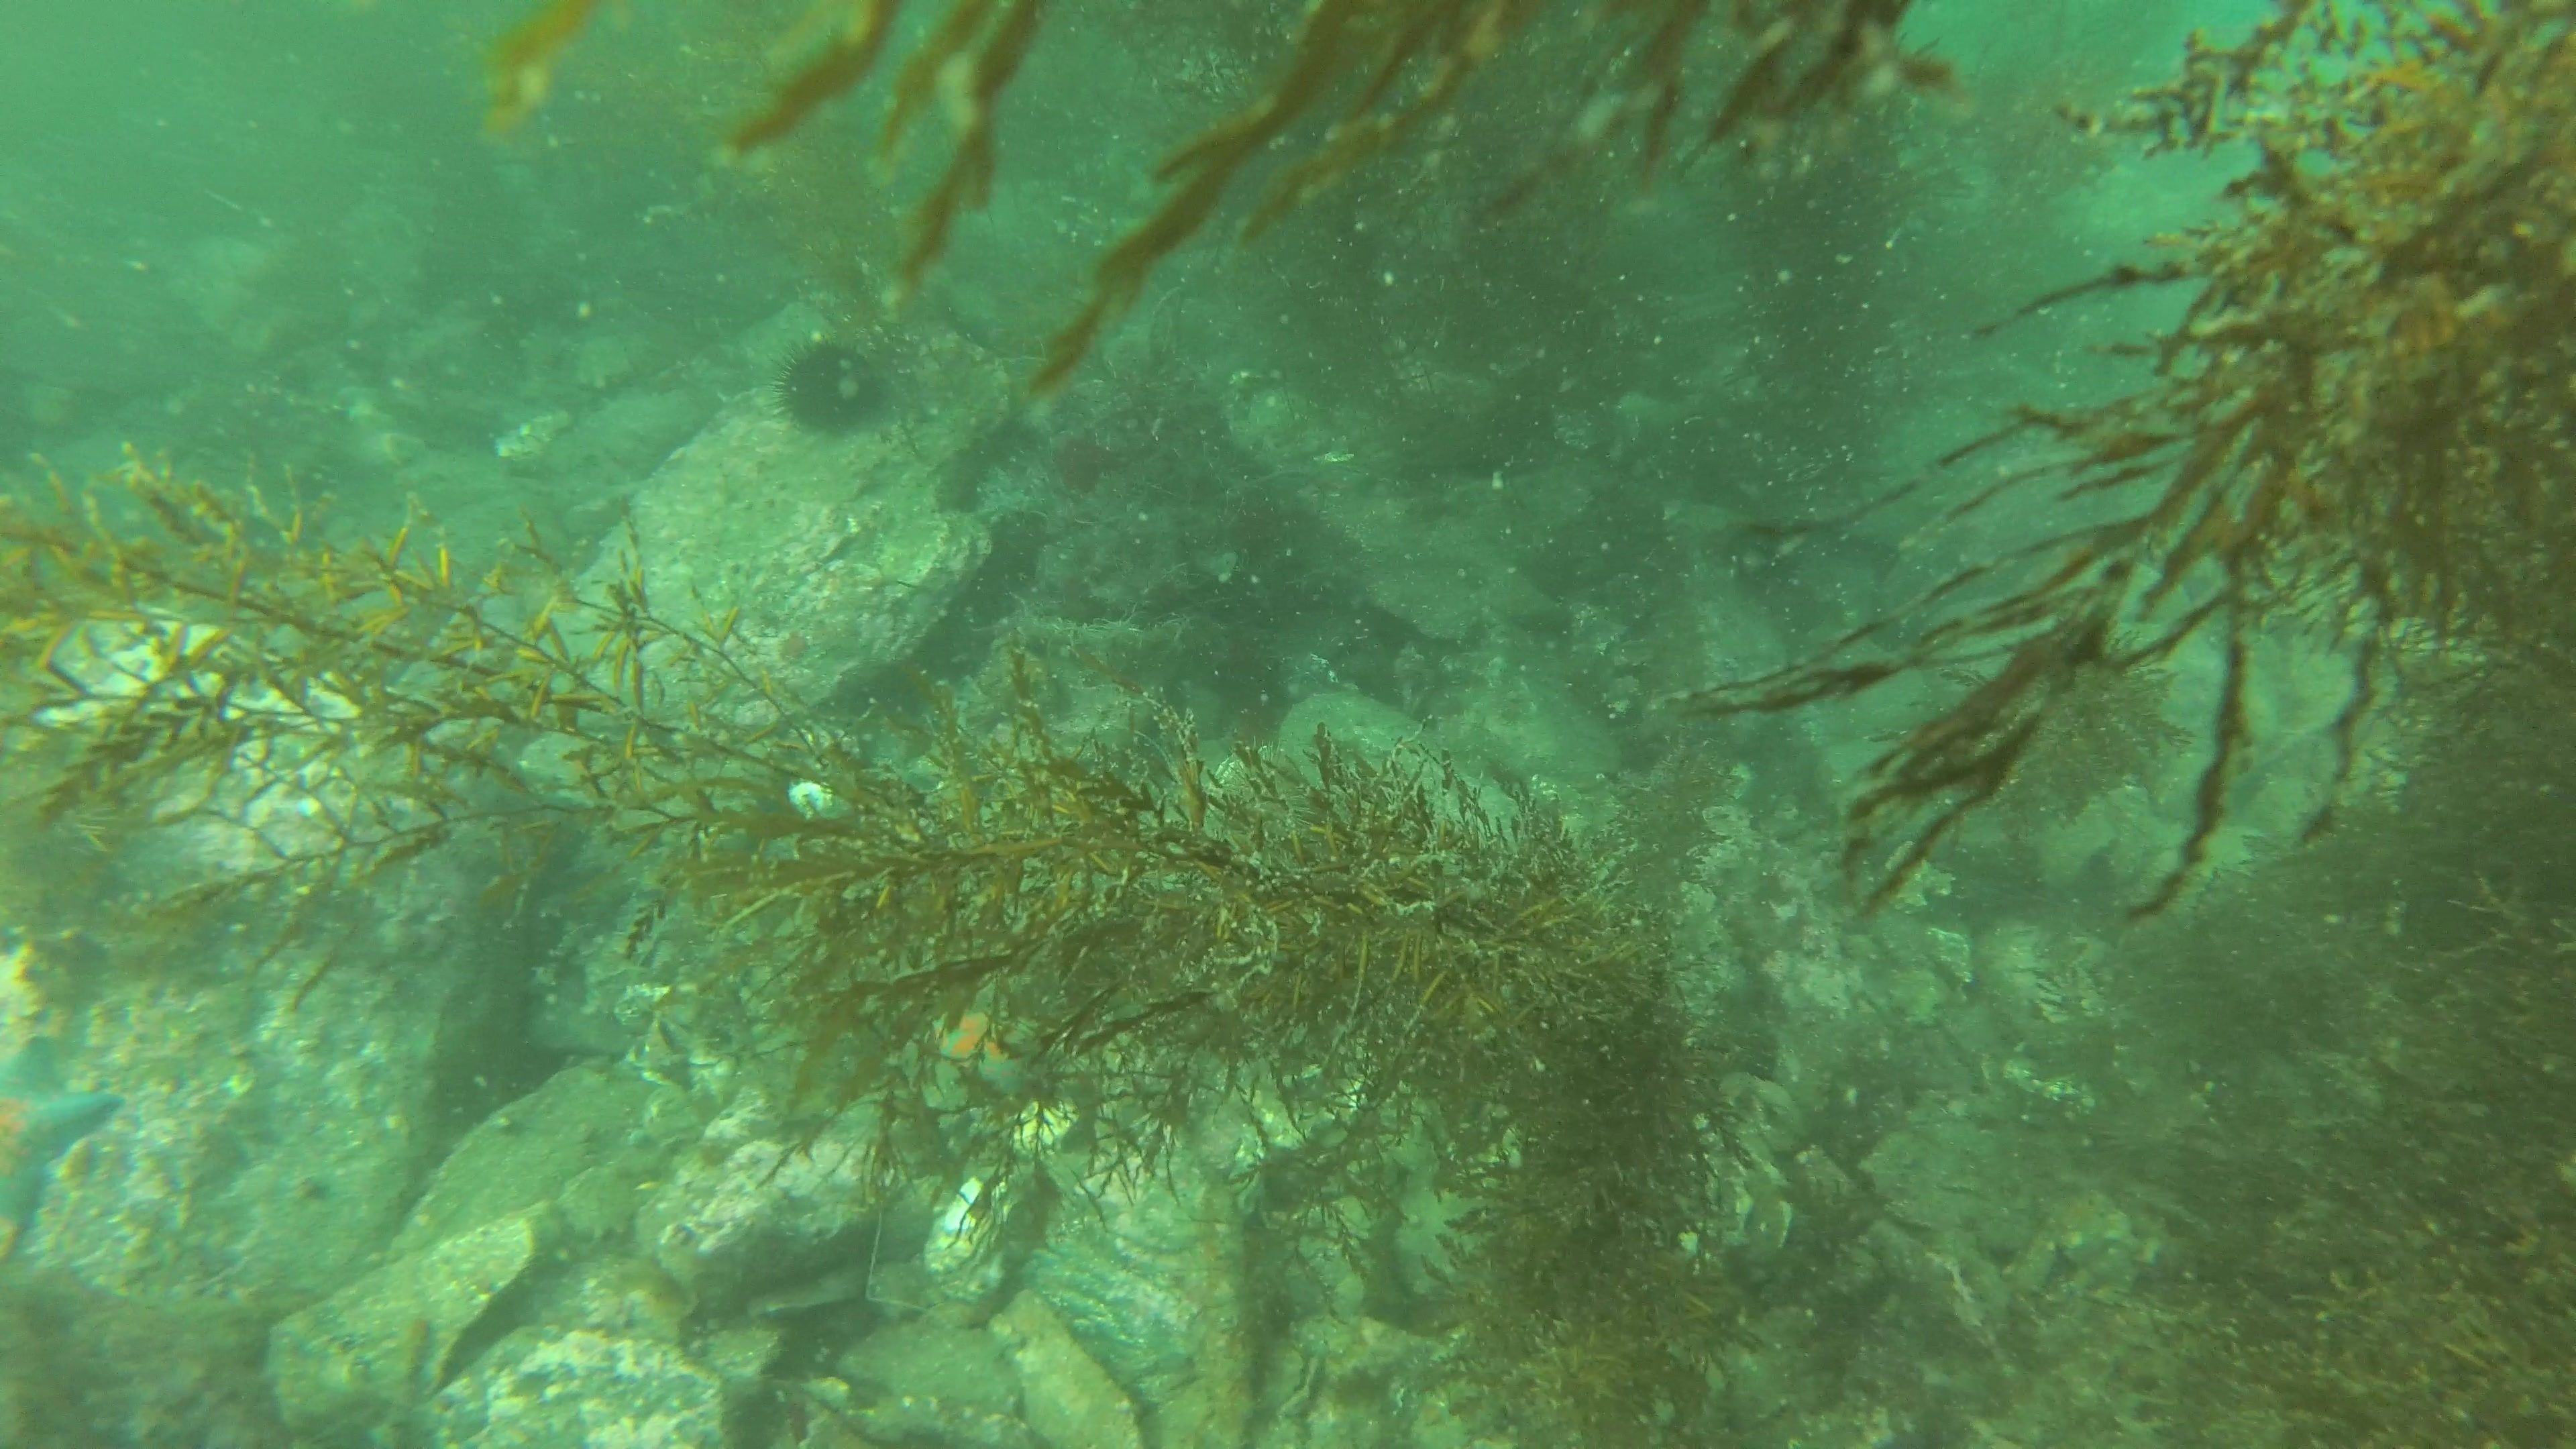echinus: (768, 329, 899, 442)
starfish: (0, 1033, 124, 1251), (931, 998, 1049, 1115)
